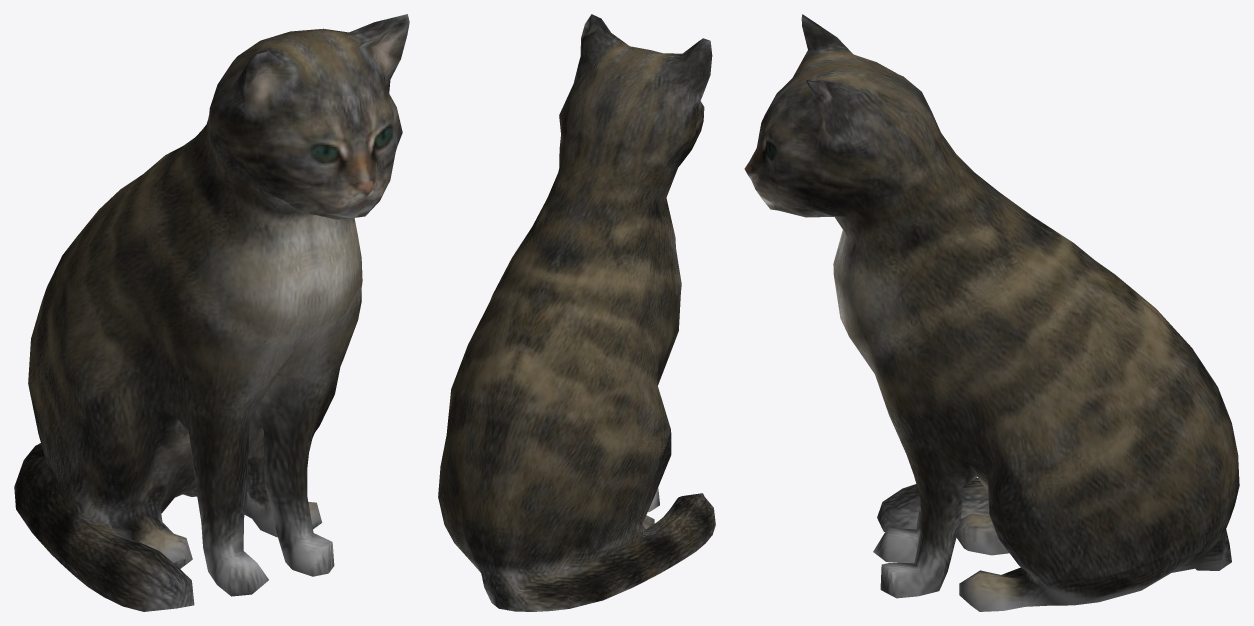
File: Cat.obj
3 renders of one model, left to right at view 1: azimuth 30°, elevation 25°; view 2: azimuth 150°, elevation 25°; view 3: azimuth 270°, elevation 25°, orthographic. The views are drawn at different scales.
Visible parts, largest first — view 1: Cat; view 2: Cat; view 3: Cat.
Boxes of the visible parts, <box> form: Cat: <box>14,14,409,611</box>; Cat: <box>438,14,715,611</box>; Cat: <box>744,14,1239,611</box>.
Bounding box in the file's own units: 0.1374 × 0.2815 × 0.2375.
